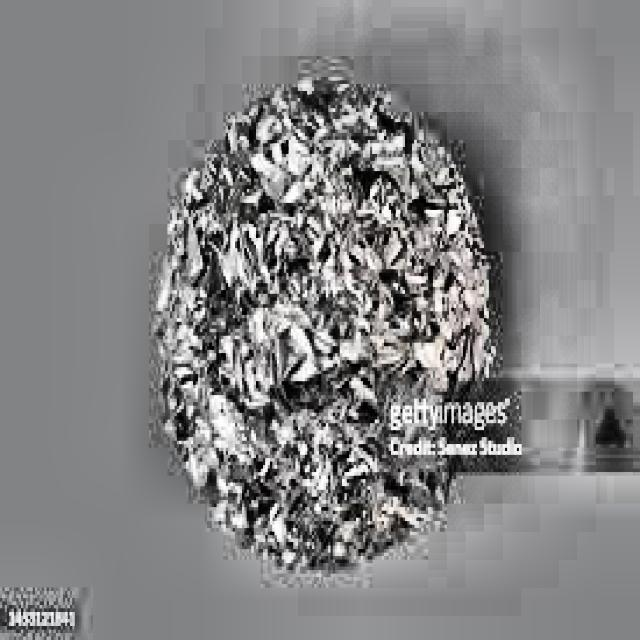Foil: (134, 54, 509, 592)
